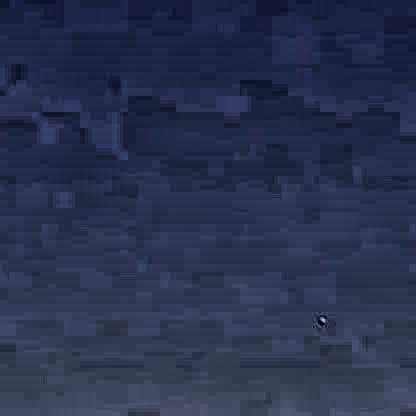golfball: (314, 315, 322, 322)
